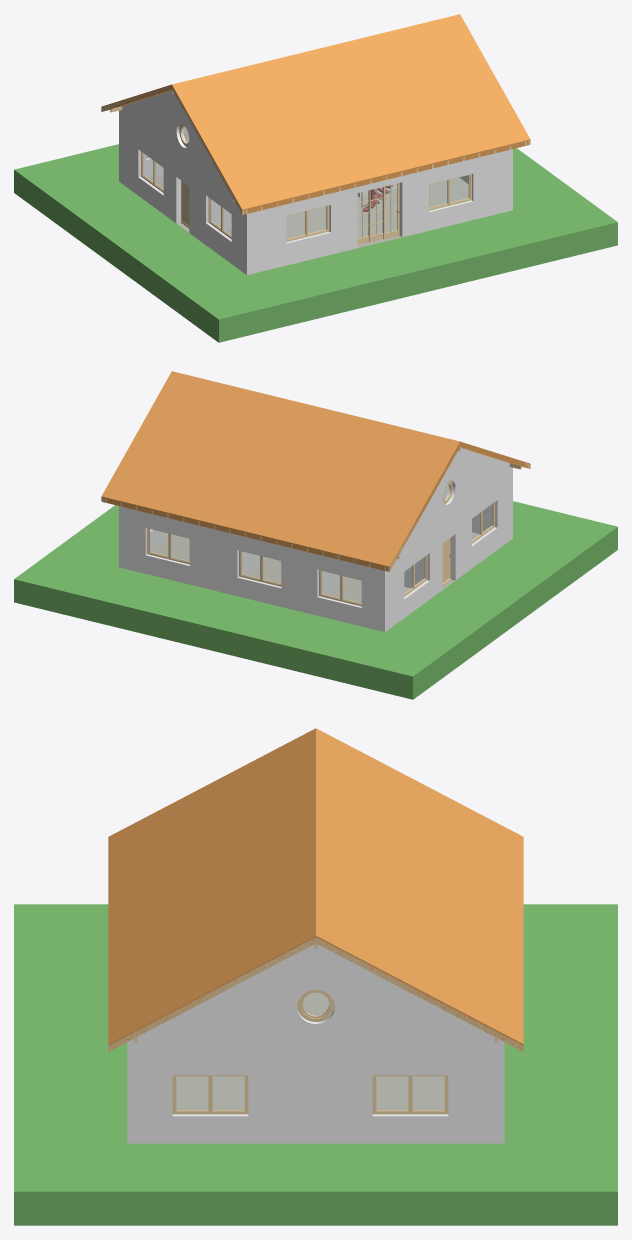
The model's file is house2.gltf.
3 renders of one model, top to bottom at view 1: azimuth 30°, elevation 25°; view 2: azimuth 150°, elevation 25°; view 3: azimuth 270°, elevation 25°, orthographic. The views are drawn at different scales.
Visible parts, largest first — view 1: Gelaende, Dach-2, Wand-Ext-ERDG-4, Wand-Ext-ERDG-1, Wand-Ext-OG-1, Bodenplatte, Terrassentuer; view 2: Dach-1, Gelaende, Wand-Ext-ERDG-2, Wand-Ext-ERDG-1, Wand-Ext-OG-1, Bodenplatte, Dach-2; view 3: Gelaende, Dach-1, Dach-2, Wand-Ext-ERDG-3, Wand-Ext-OG-3, Bodenplatte, Sparren-41, Sparren-16, EG-Fenster-8, EG-Fenster-9.
Part boxes in pixels (x1,y1,x2,y2): Gelaende: [14, 144, 617, 342]; Dach-2: [172, 14, 530, 214]; Wand-Ext-ERDG-4: [247, 149, 512, 274]; Wand-Ext-ERDG-1: [119, 119, 246, 274]; Wand-Ext-OG-1: [119, 91, 236, 204]; Bodenplatte: [149, 174, 468, 247]; Terrassentuer: [357, 183, 399, 244]; Dach-1: [101, 371, 459, 571]; Gelaende: [14, 501, 617, 699]; Wand-Ext-ERDG-2: [119, 506, 384, 631]; Wand-Ext-ERDG-1: [385, 476, 512, 631]; Wand-Ext-OG-1: [395, 448, 512, 561]; Bodenplatte: [150, 532, 479, 603]; Dach-2: [460, 441, 530, 468]; Gelaende: [14, 904, 617, 1225]; Dach-1: [316, 728, 523, 1051]; Dach-2: [108, 728, 315, 1051]; Wand-Ext-ERDG-3: [127, 1051, 504, 1143]; Wand-Ext-OG-3: [127, 944, 504, 1051]; Bodenplatte: [176, 1076, 444, 1109]; Sparren-41: [108, 937, 315, 1051]; Sparren-16: [316, 937, 523, 1051]; EG-Fenster-8: [372, 1075, 448, 1114]; EG-Fenster-9: [172, 1075, 248, 1114].
Bounding box in the file's own units: 18 × 7.32 × 16.
